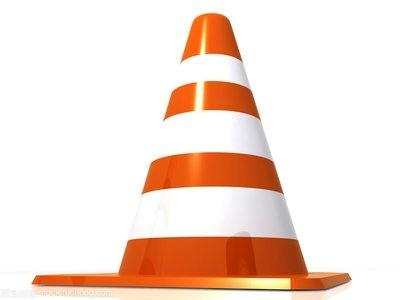cone_barrel: (116, 10, 311, 273)
